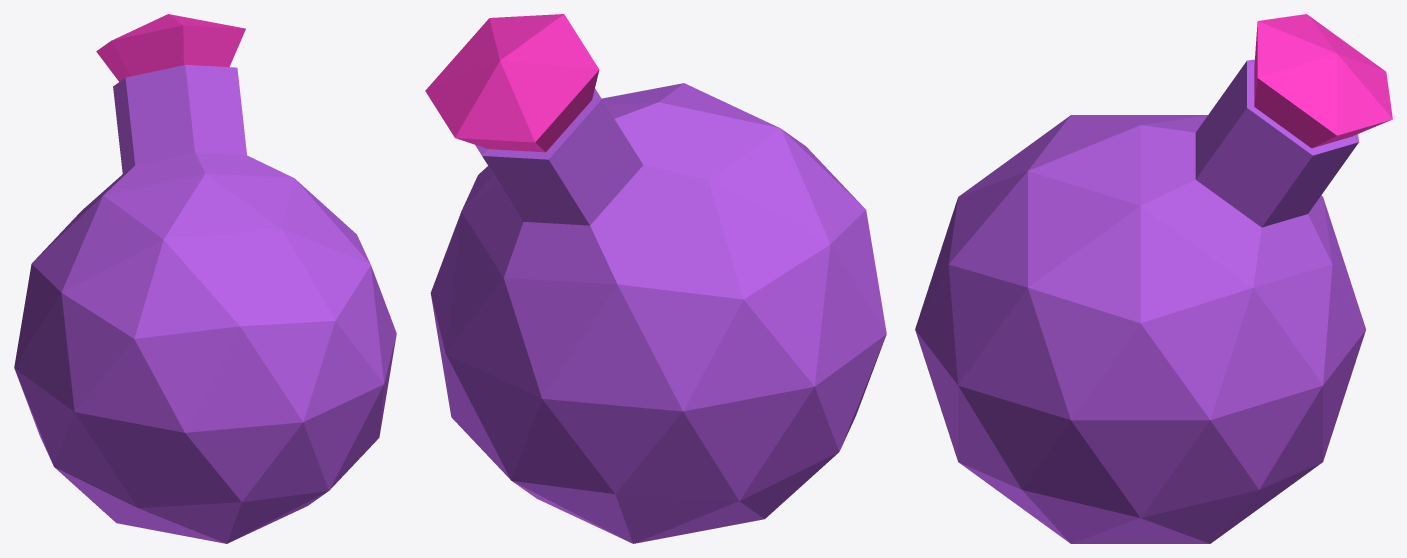
File: soulrefilpotion.fbx
3 views of the same model, side by side, from view 1: azimuth 30°, elevation 25°; view 2: azimuth 150°, elevation 25°; view 3: azimuth 270°, elevation 25° (orthographic). The views are drawn at different scales.
Visible parts, largest first — view 1: Icosphere; view 2: Icosphere; view 3: Icosphere.
Part boxes in pixels (box(x1,y1,x2,y2)): Icosphere: box(14, 14, 396, 543); Icosphere: box(425, 14, 886, 543); Icosphere: box(915, 14, 1392, 543).
Bounding box in the file's own units: 190 × 259 × 212.
